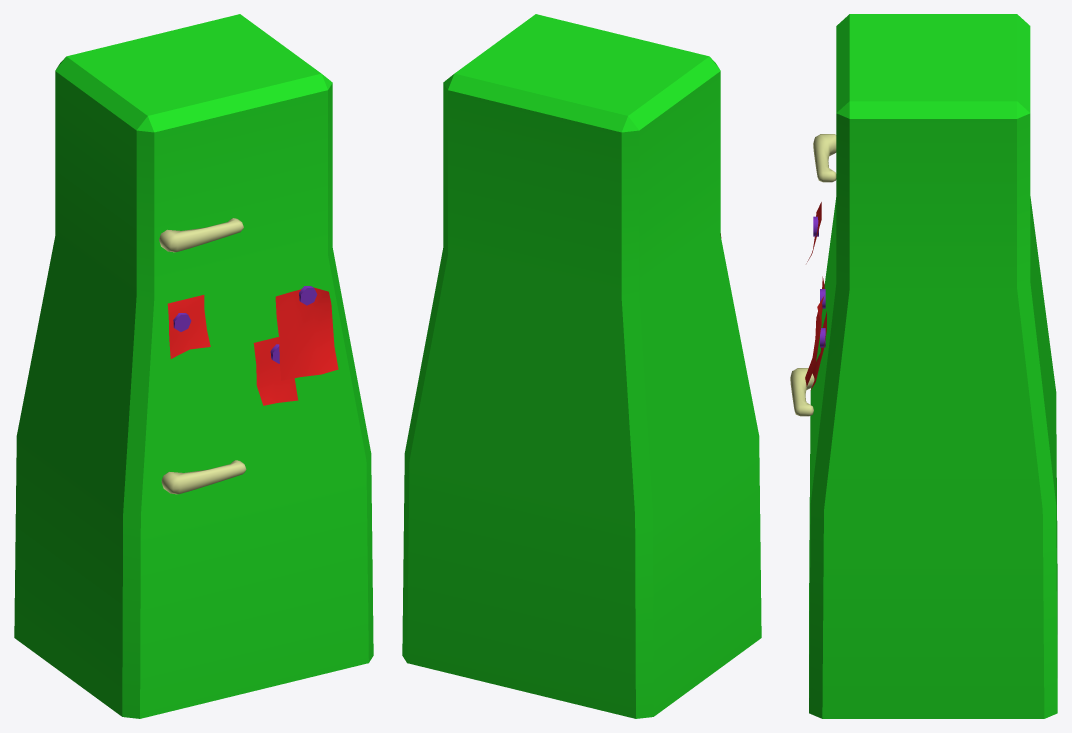
The model's file is umgebung_kueche_kuehlschrank.FBX.
The picture shows the model from 3 angles, left to right: view 1: azimuth 30°, elevation 25°; view 2: azimuth 150°, elevation 25°; view 3: azimuth 270°, elevation 25°; orthographic projection. The views are drawn at different scales.
Visible parts, largest first — view 1: Box003, Plane012, haenkel, haenkel_oben; view 2: Box003; view 3: Box003, haenkel_oben, Plane012, haenkel.
Boxes of the visible parts, box(x1,y1,x2,y2) form: Box003: box(14, 14, 373, 718); Plane012: box(167, 287, 338, 405); haenkel: box(161, 460, 246, 494); haenkel_oben: box(159, 218, 243, 252); Box003: box(402, 14, 761, 718); Box003: box(809, 14, 1057, 718); haenkel_oben: box(813, 134, 836, 182); Plane012: box(805, 202, 826, 390); haenkel: box(790, 368, 814, 416).
Size of the model in its own units: 115 by 257 by 103.
